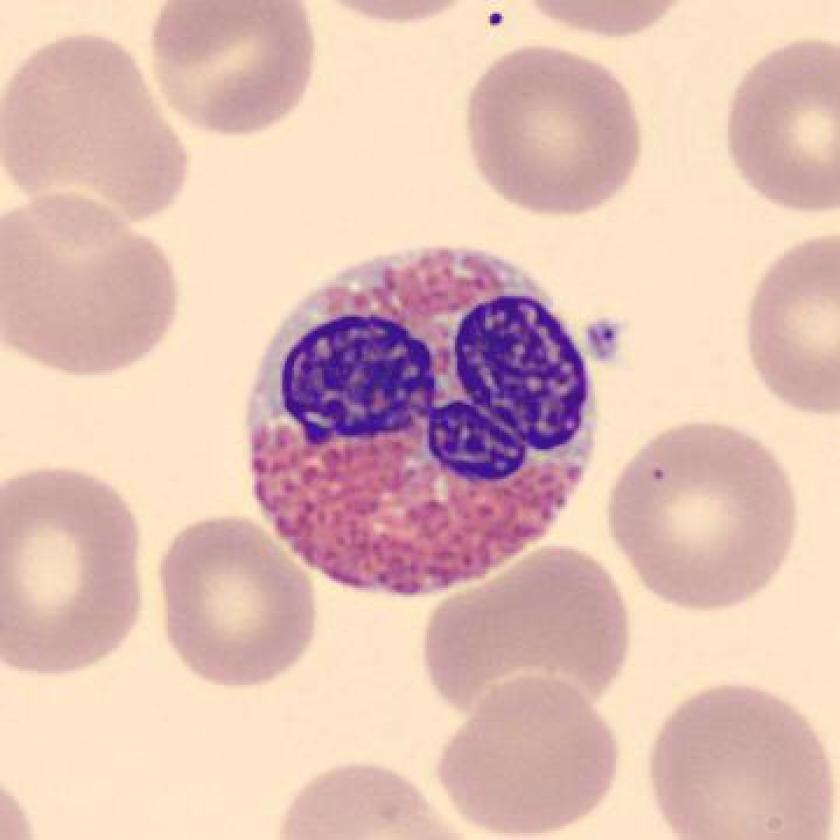eosinophil: (235, 232, 613, 605)
